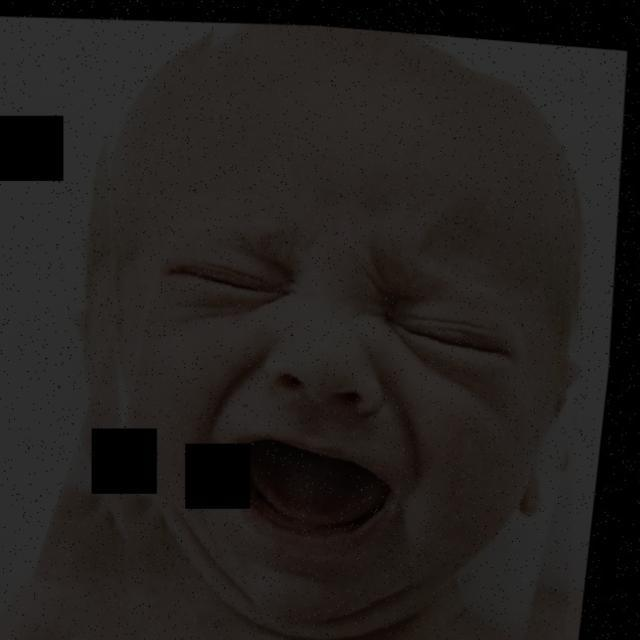Sad: (70, 120, 580, 611)
